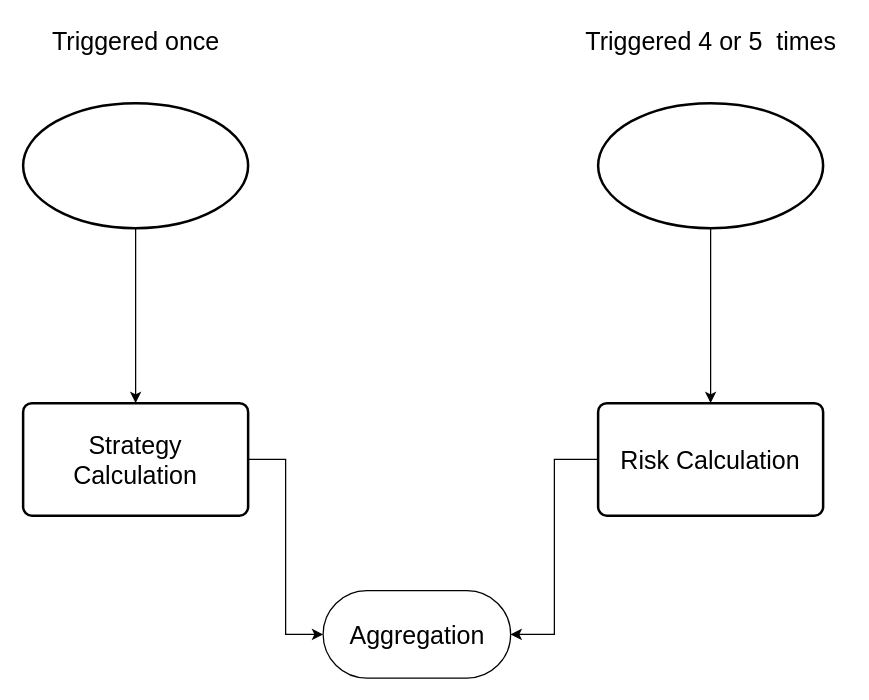
This 869x700 diagram has some shape labels left out. Each missing label, with the centre of its shape:
Risk Trigger: pixel 710 165
Strategy Trigger: pixel 135 165
